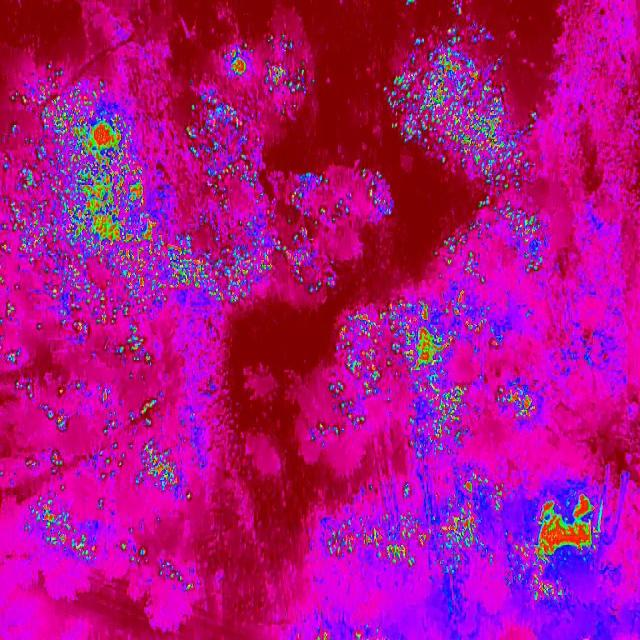fire: (0, 78, 219, 572), (330, 292, 508, 452), (386, 26, 506, 192), (327, 482, 506, 588), (506, 484, 611, 614), (482, 114, 552, 278), (222, 41, 264, 300), (265, 168, 395, 222), (264, 26, 317, 120), (264, 222, 363, 266), (264, 266, 338, 300), (508, 375, 540, 425)
